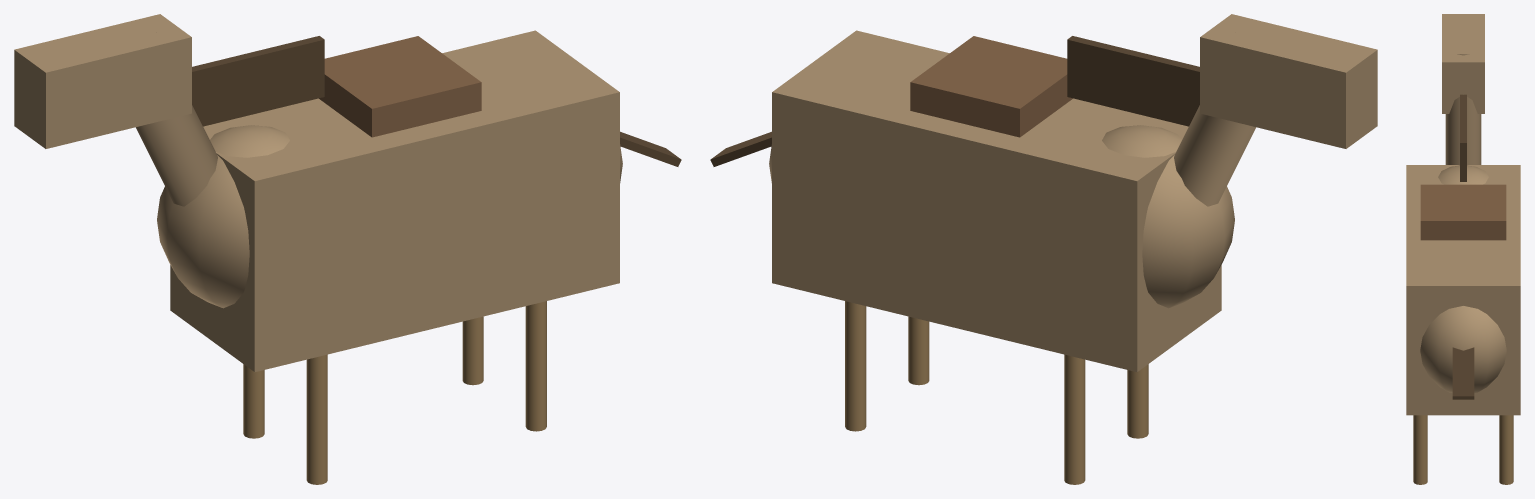
Rendered from env-med-horse.glb.
The picture shows the model from 3 angles, left to right: view 1: azimuth 30°, elevation 25°; view 2: azimuth 150°, elevation 25°; view 3: azimuth 270°, elevation 25°; orthographic projection. The views are drawn at different scales.
Bounding box in the file's own units: 3.53 × 2.41 × 0.8.
